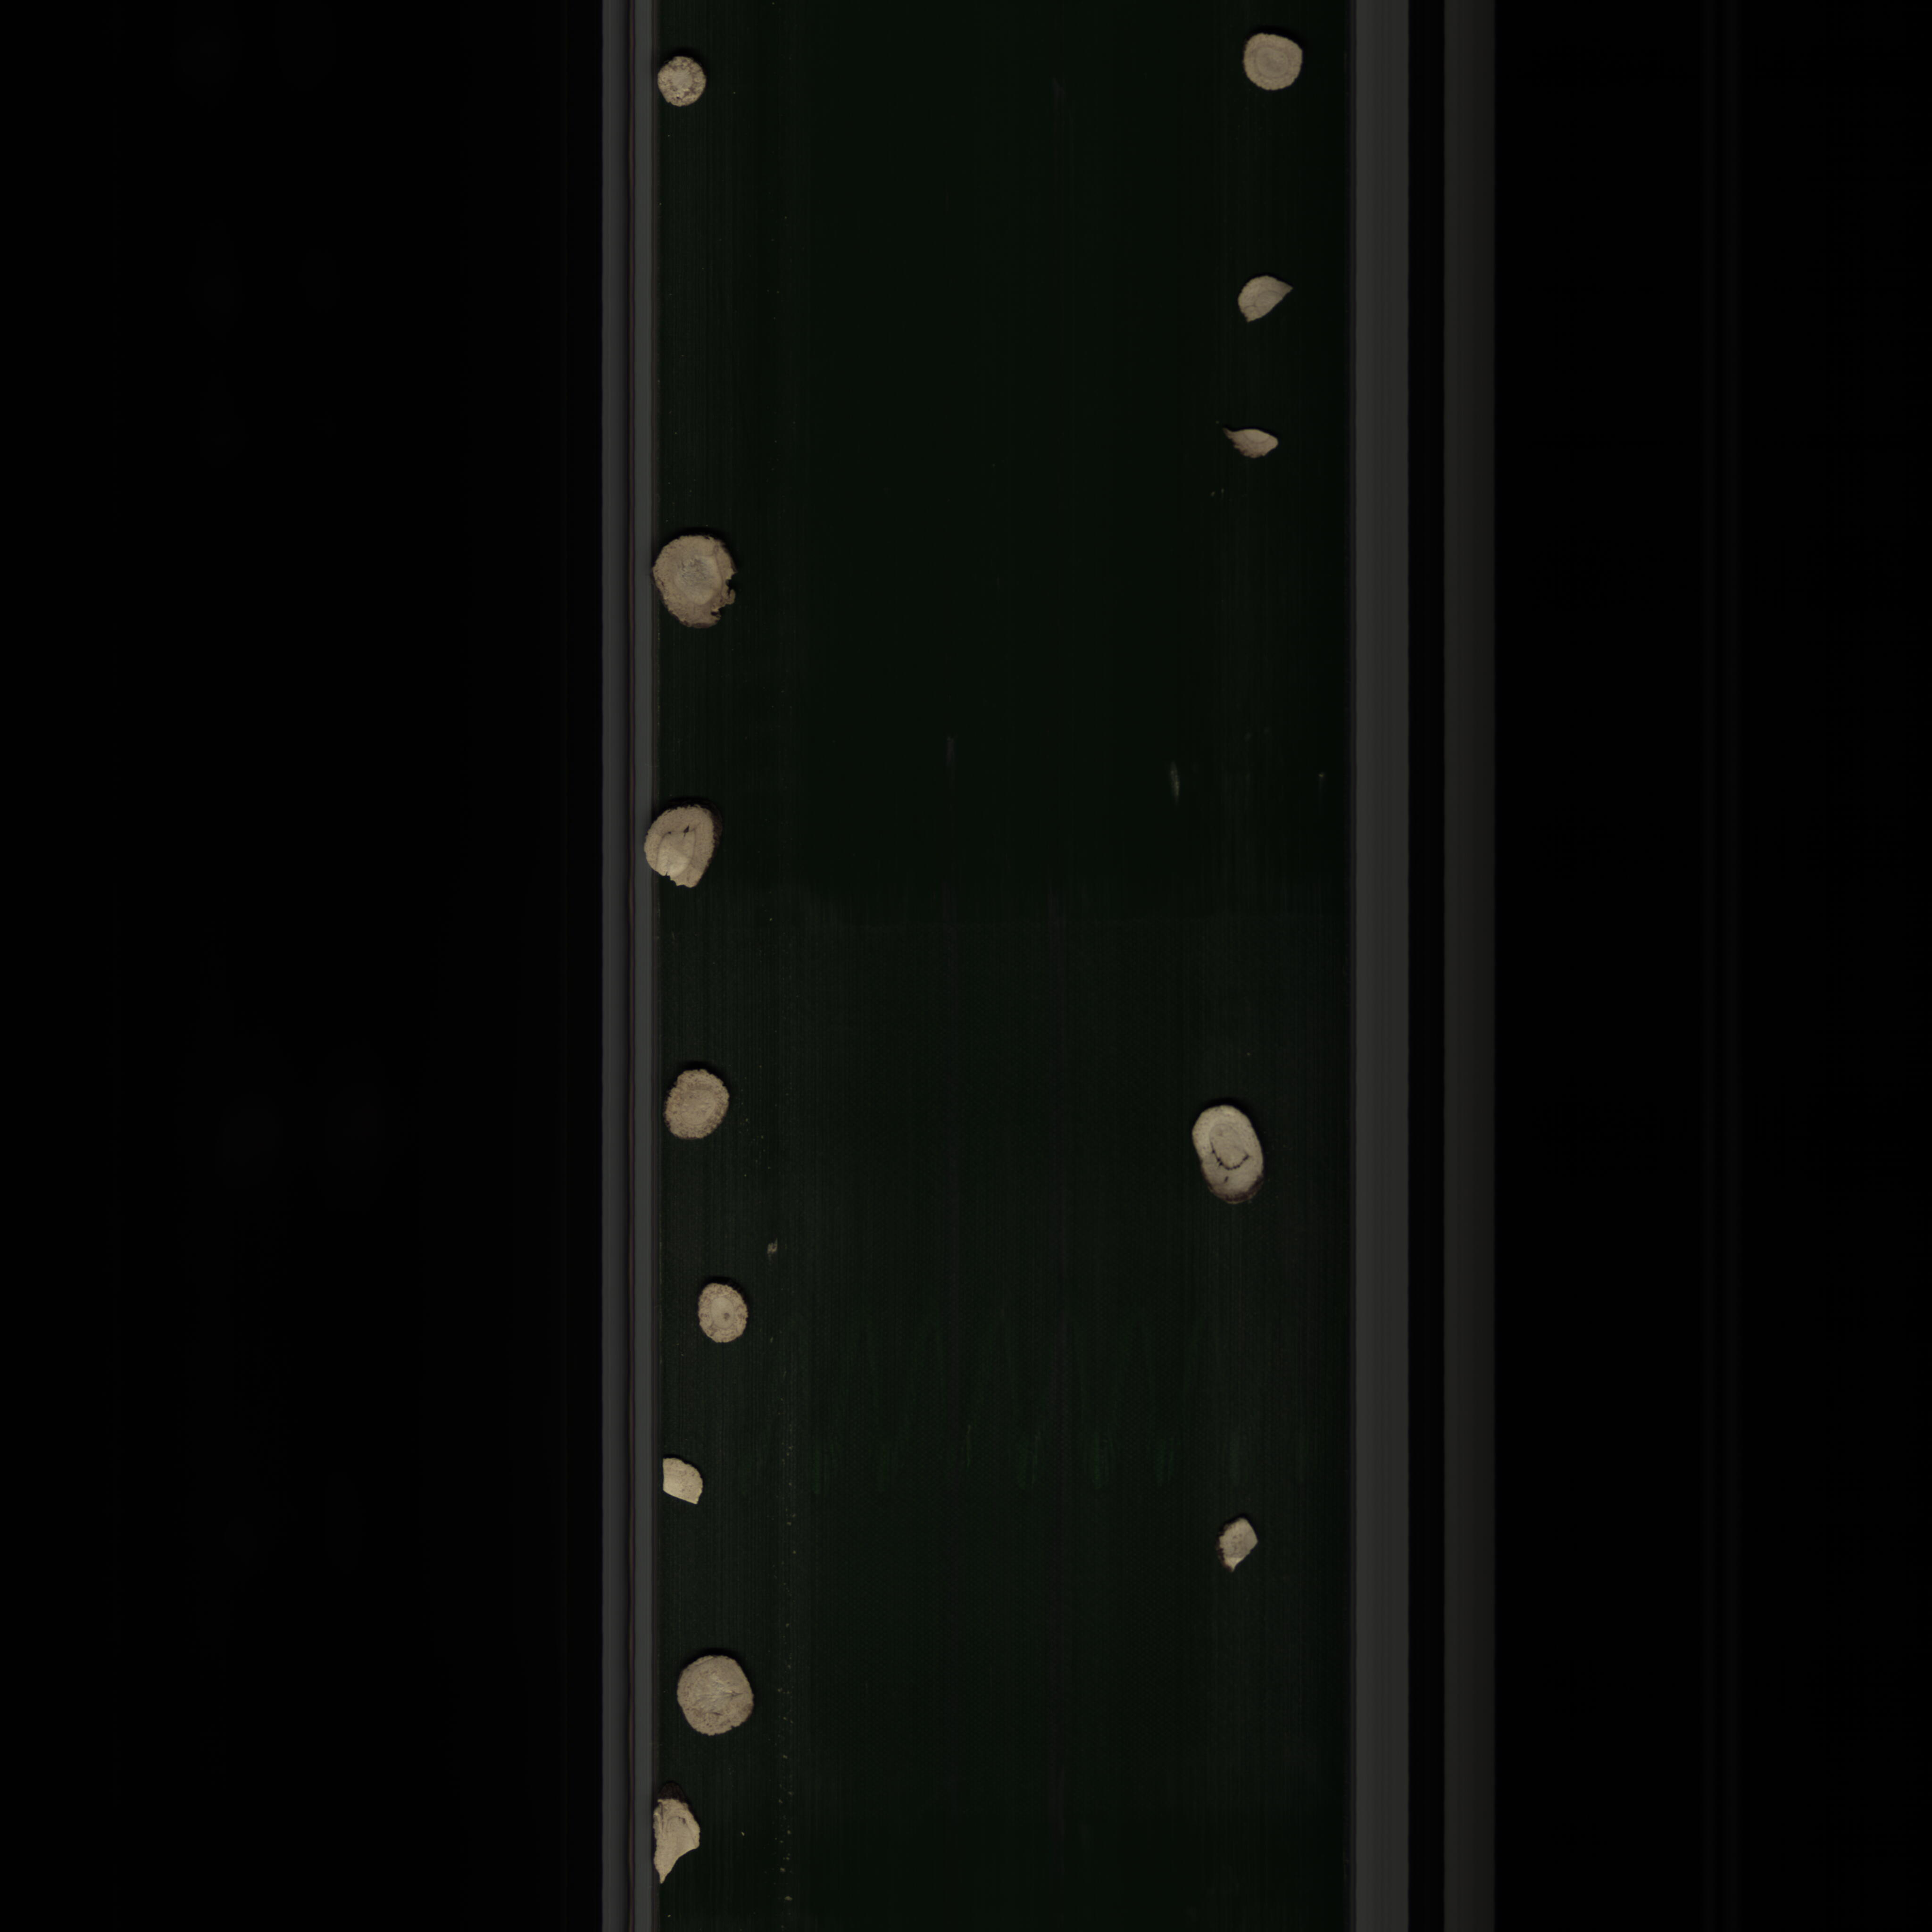debris: (642, 1789, 708, 1897), (1208, 1507, 1272, 1587), (658, 1447, 717, 1516), (1228, 269, 1292, 322), (1219, 425, 1286, 472)
hole: (1168, 1095, 1274, 1219), (651, 798, 741, 906)
moldy: (646, 527, 752, 630)
